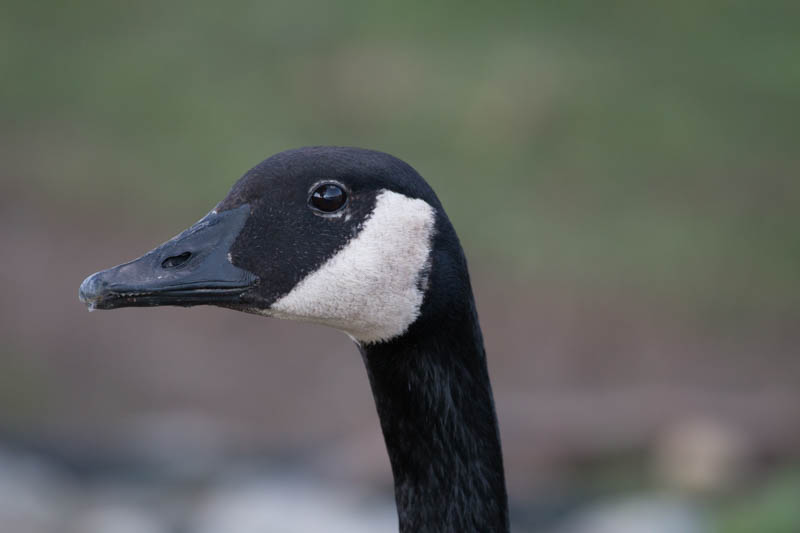goose-head: (77, 144, 483, 344)
